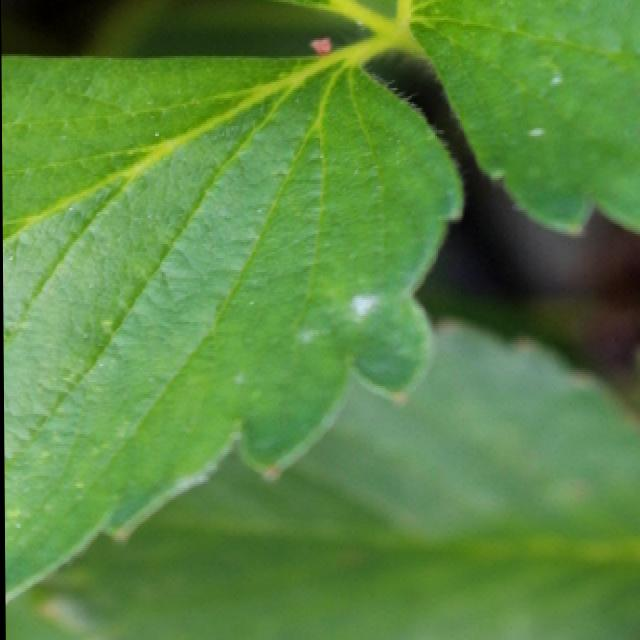Powdery Mildew Leaf: (0, 52, 463, 611), (396, 0, 640, 231)
